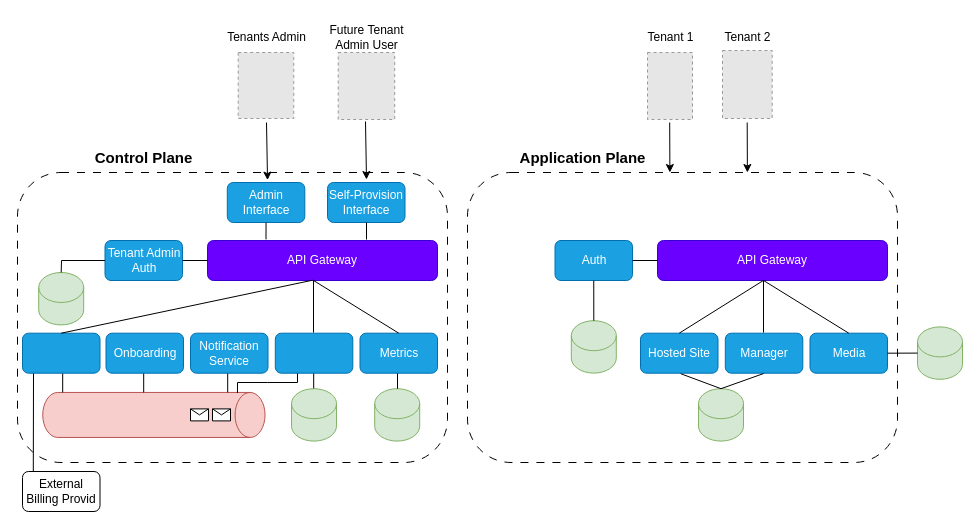
Image size: 980x529. Some labels were removed from this diagram. Grey dashed boxes stand in for pictures. Each missing label, with the centre of its shape:
Billing: point 61,352
Tenant Management: point 313,352
